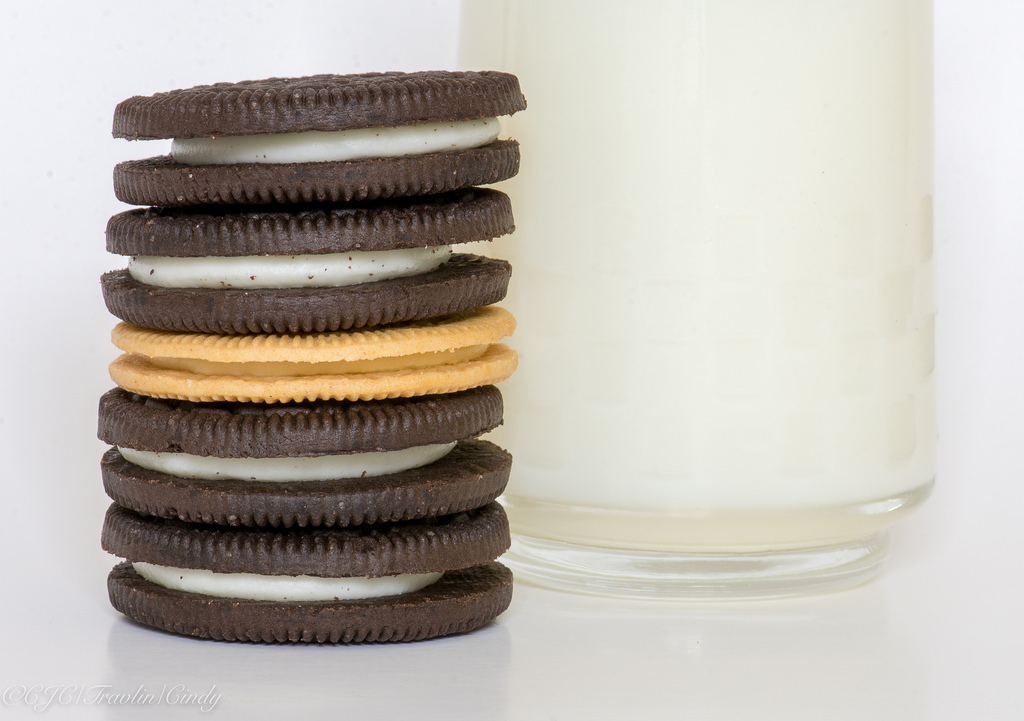glass of milk: (468, 1, 929, 590)
